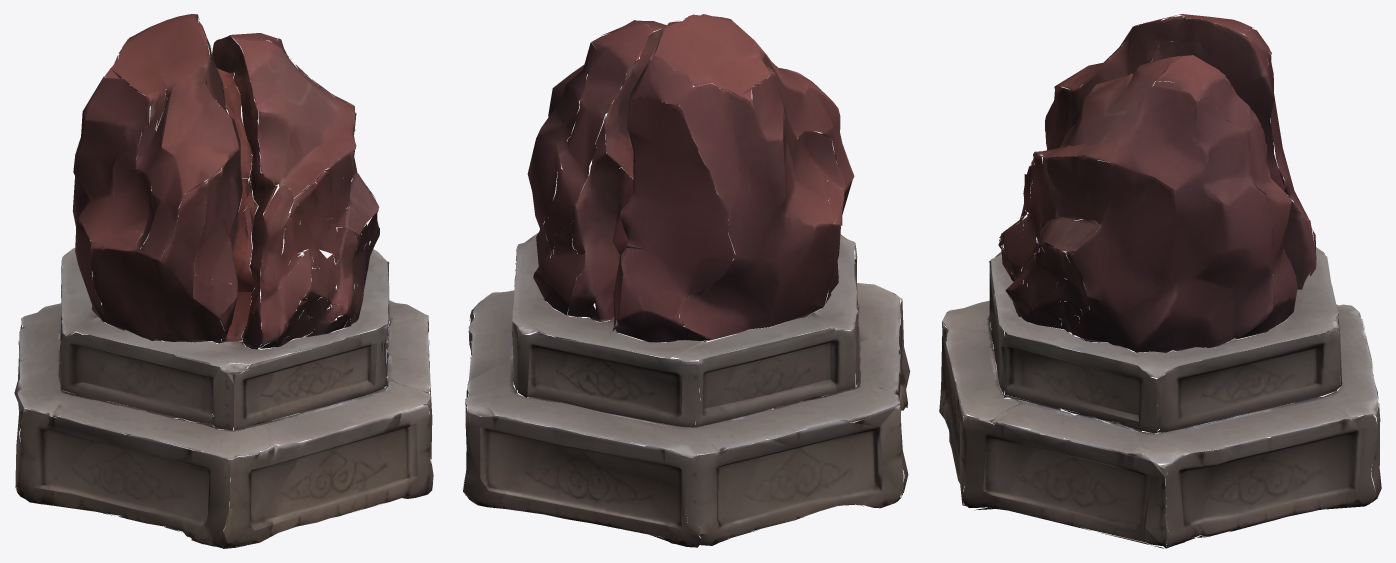
File: bloodAltar.glb
3 views of the same model, side by side, from view 1: azimuth 30°, elevation 25°; view 2: azimuth 150°, elevation 25°; view 3: azimuth 270°, elevation 25° (orthographic). The views are drawn at different scales.
Visible parts, largest first — view 1: Prop_bloodAltar; view 2: Prop_bloodAltar; view 3: Prop_bloodAltar.
Boxes of the visible parts, box(x1,y1,x2,y2) form: Prop_bloodAltar: box(14, 14, 433, 548); Prop_bloodAltar: box(463, 14, 910, 547); Prop_bloodAltar: box(939, 14, 1381, 548).
Size of the model in its own units: 5.07 by 5 by 4.62.
1 material, 1 textured.
